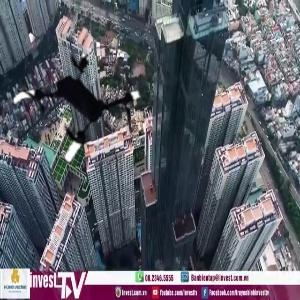drone: (10, 45, 142, 177)
